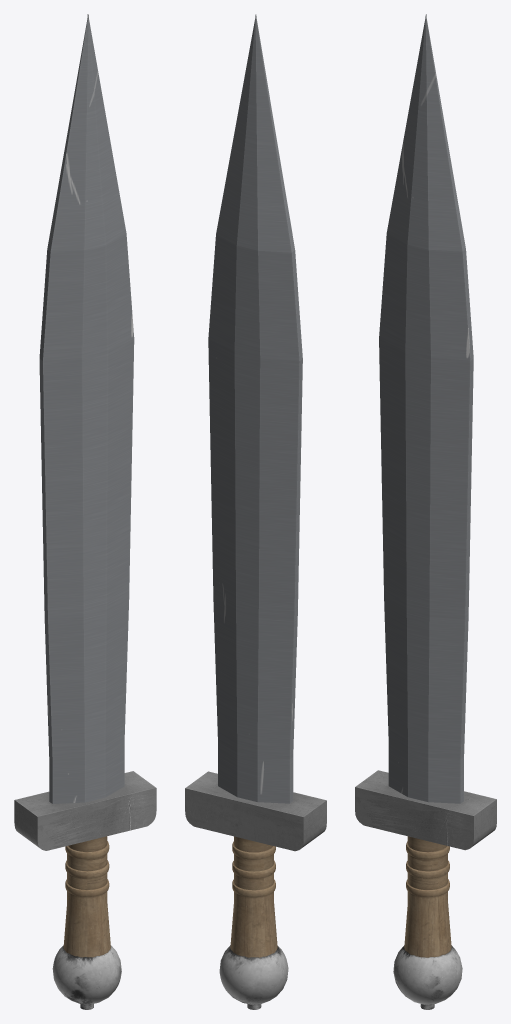
File: Sword_03.fbx
3 views of the same model, side by side, from view 1: azimuth 30°, elevation 25°; view 2: azimuth 150°, elevation 25°; view 3: azimuth 330°, elevation 25° (orthographic).
Visible parts, largest first — view 1: Sword_03; view 2: Sword_03; view 3: Sword_03.
Boxes of the visible parts, bbox=[...] form: Sword_03: bbox=[14, 14, 156, 1009]; Sword_03: bbox=[185, 14, 326, 1009]; Sword_03: bbox=[355, 14, 496, 1009].
Bounding box in the file's own units: 4.91 × 39.24 × 2.49.
6 materials, 6 textured.
